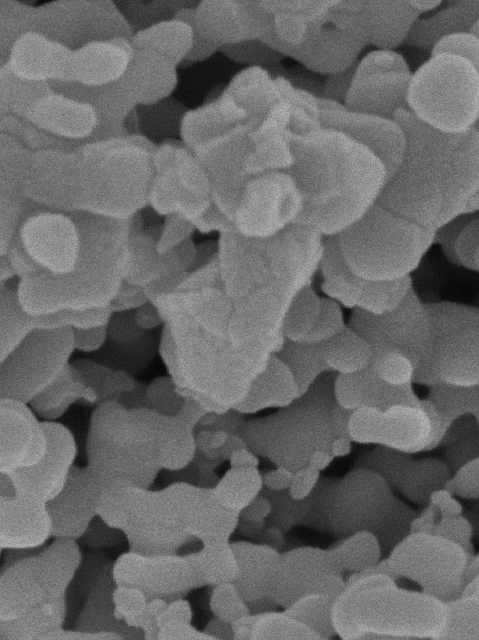nano: (20, 208, 87, 276)
